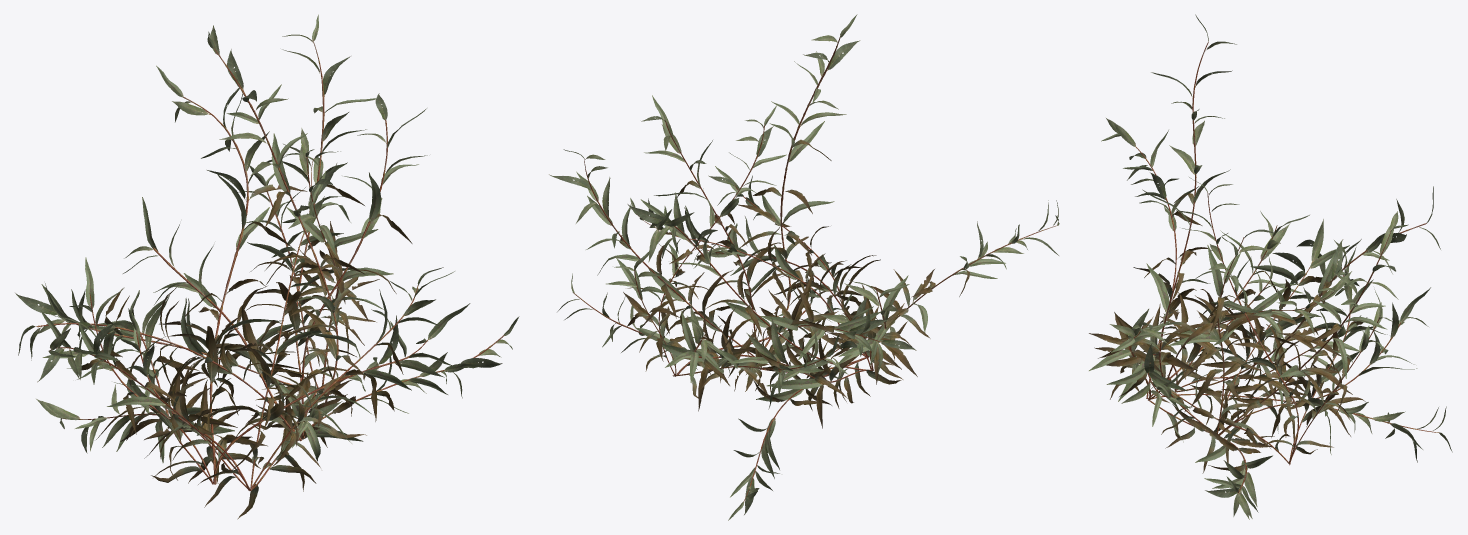
The model's file is shrub-a.glb.
3 renders of one model, left to right at view 1: azimuth 30°, elevation 25°; view 2: azimuth 150°, elevation 25°; view 3: azimuth 270°, elevation 25°, orthographic. The views are drawn at different scales.
Visible parts, largest first — view 1: shrub_02_c, shrub_02_a, shrub_02_b, shrub_02_d; view 2: shrub_02_a, shrub_02_c, shrub_02_b, shrub_02_d; view 3: shrub_02_a, shrub_02_c, shrub_02_b, shrub_02_d.
Part boxes in pixels (x1=…): shrub_02_c: x1=36, y1=144, x2=519, y2=519; shrub_02_a: x1=18, y1=14, x2=427, y2=441; shrub_02_b: x1=52, y1=65, x2=470, y2=484; shrub_02_d: x1=15, y1=128, x2=393, y2=461; shrub_02_a: x1=549, y1=14, x2=916, y2=411; shrub_02_c: x1=557, y1=166, x2=1059, y2=520; shrub_02_b: x1=627, y1=192, x2=917, y2=428; shrub_02_d: x1=606, y1=105, x2=856, y2=401; shrub_02_a: x1=1113, y1=14, x2=1430, y2=448; shrub_02_c: x1=1089, y1=118, x2=1452, y2=519; shrub_02_b: x1=1106, y1=186, x2=1440, y2=426; shrub_02_d: x1=1150, y1=177, x2=1392, y2=465.
Size of the model in its own units: 2.18 by 1.98 by 1.47.
1 material, 1 textured.
